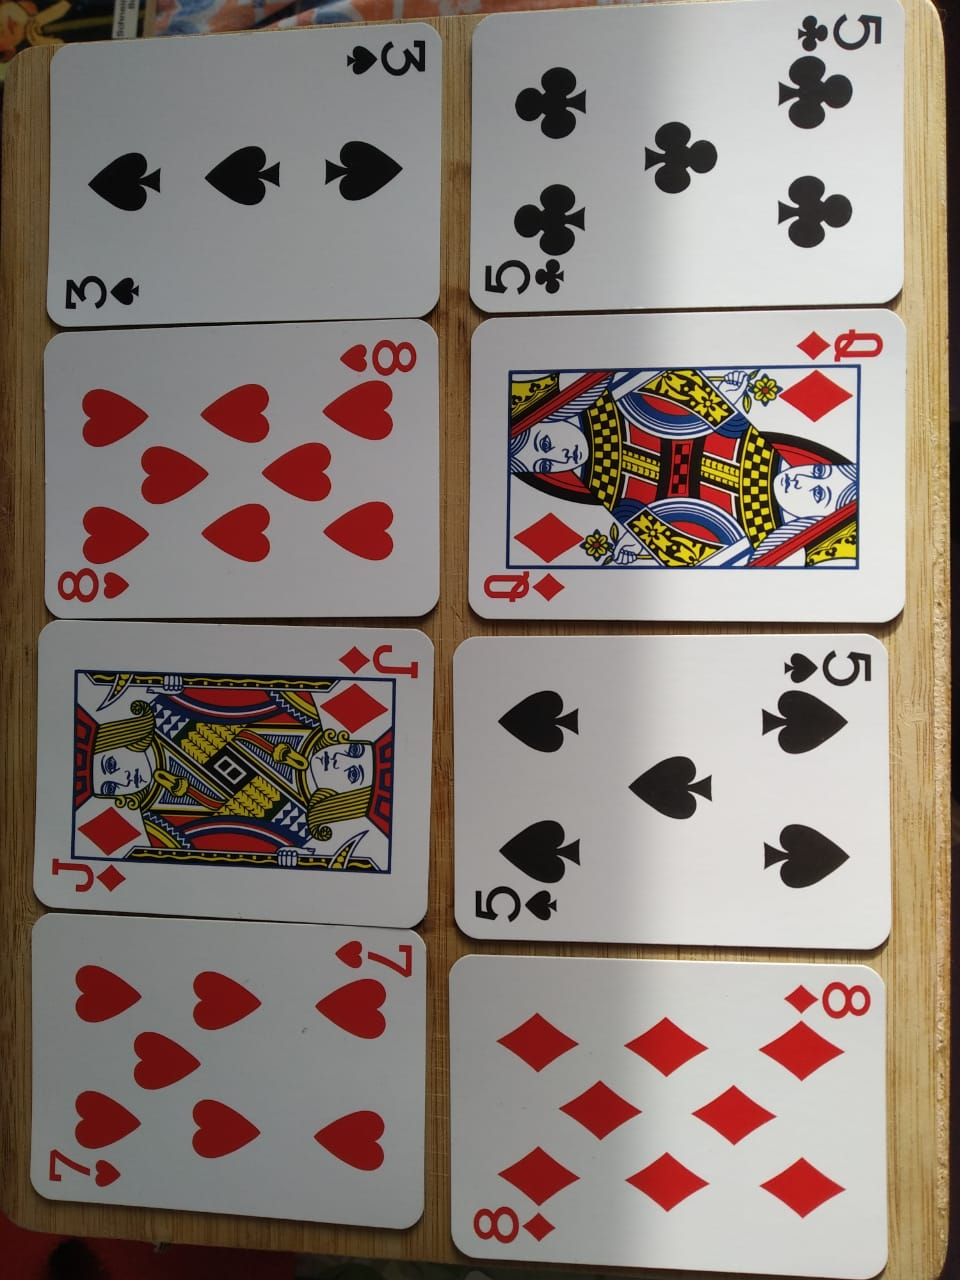eight: (434, 951, 899, 1280), (22, 321, 452, 625)
five: (444, 608, 907, 970), (460, 2, 918, 306)
jack: (9, 604, 434, 931)
queen: (454, 308, 938, 633)
seven: (7, 910, 438, 1239)
three: (40, 23, 446, 331)
